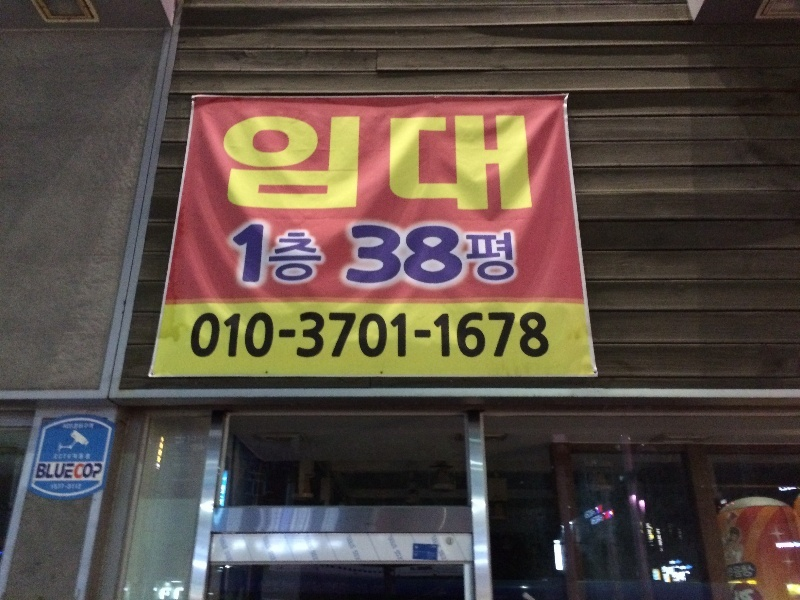text: (225, 113, 240, 212), (241, 113, 256, 212), (257, 113, 272, 212), (273, 113, 288, 212), (289, 113, 304, 212), (305, 113, 320, 212), (321, 113, 336, 212), (337, 113, 352, 212), (353, 113, 368, 212), (369, 113, 384, 212), (385, 113, 400, 212), (401, 113, 416, 212), (417, 113, 432, 212), (433, 113, 448, 212), (449, 113, 464, 212), (465, 113, 480, 212), (481, 113, 496, 212), (497, 113, 512, 212), (513, 113, 528, 212), (241, 221, 256, 285), (257, 221, 272, 285), (273, 221, 288, 285), (289, 221, 304, 285), (305, 221, 320, 285), (353, 223, 368, 286), (369, 223, 384, 286), (385, 223, 400, 286), (401, 223, 416, 286), (417, 223, 432, 286), (433, 223, 448, 286), (449, 223, 464, 286), (465, 223, 480, 286), (481, 223, 496, 286), (497, 223, 512, 286), (209, 312, 224, 360), (225, 312, 240, 360), (241, 312, 256, 360), (257, 312, 272, 360), (273, 312, 288, 360), (289, 312, 304, 360), (305, 312, 320, 360), (321, 312, 336, 360), (337, 312, 352, 360), (353, 312, 368, 360), (369, 312, 384, 360), (385, 312, 400, 360), (401, 312, 416, 360), (417, 312, 432, 360), (433, 312, 448, 360), (449, 312, 464, 360), (465, 312, 480, 360), (481, 312, 496, 360), (497, 312, 512, 360), (513, 312, 528, 360), (529, 312, 544, 360), (194, 312, 208, 360), (231, 221, 240, 285), (529, 113, 534, 212), (321, 221, 326, 285), (49, 464, 64, 480), (65, 464, 80, 480), (81, 464, 96, 480), (545, 312, 550, 360), (737, 566, 752, 580), (222, 113, 224, 212), (38, 464, 48, 480), (65, 483, 80, 492), (513, 223, 515, 286), (727, 566, 736, 580), (52, 483, 64, 492), (65, 453, 80, 460), (97, 464, 103, 480), (65, 423, 80, 429), (81, 423, 95, 429), (54, 453, 64, 460), (81, 453, 91, 460), (351, 223, 352, 286), (753, 566, 757, 580), (81, 483, 82, 492), (63, 423, 64, 429)
